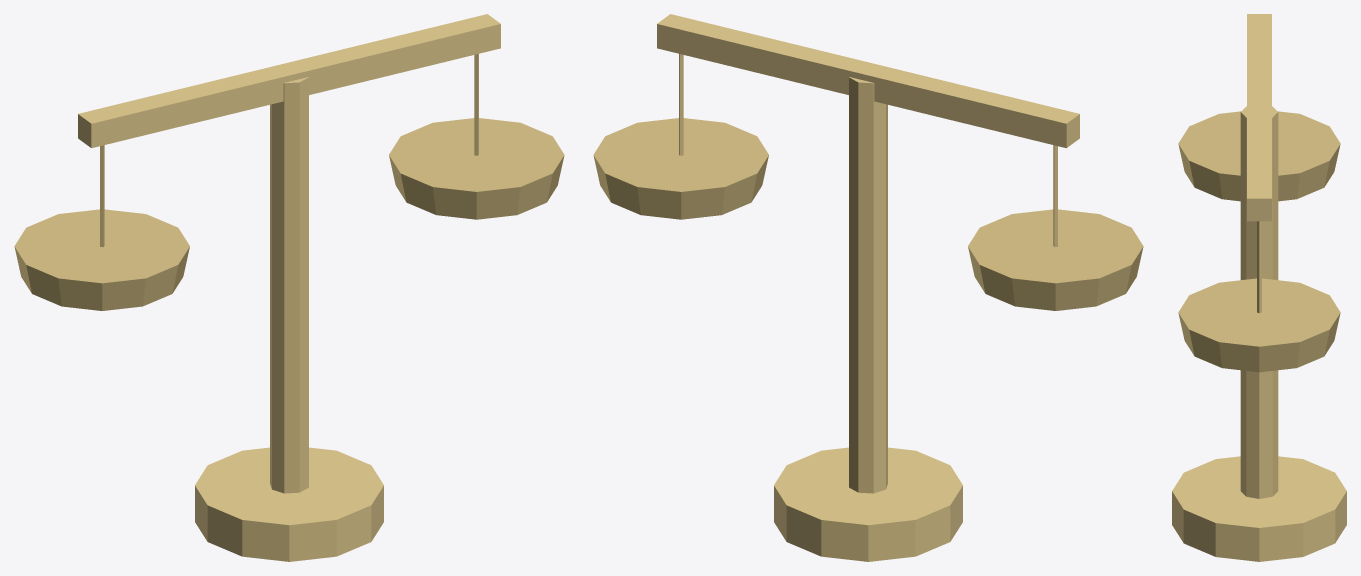
The model's file is scale.glb.
The picture shows the model from 3 angles, left to right: view 1: azimuth 30°, elevation 25°; view 2: azimuth 150°, elevation 25°; view 3: azimuth 270°, elevation 25°; orthographic projection. The views are drawn at different scales.
Parts seen in each view (by area): view 1: scale; view 2: scale; view 3: scale.
Boxes of the visible parts, <box> form: scale: <box>14,14,564,561</box>; scale: <box>593,14,1143,561</box>; scale: <box>1172,14,1346,561</box>.
Bounding box in the file's own units: 0.9 × 0.74 × 0.28.
